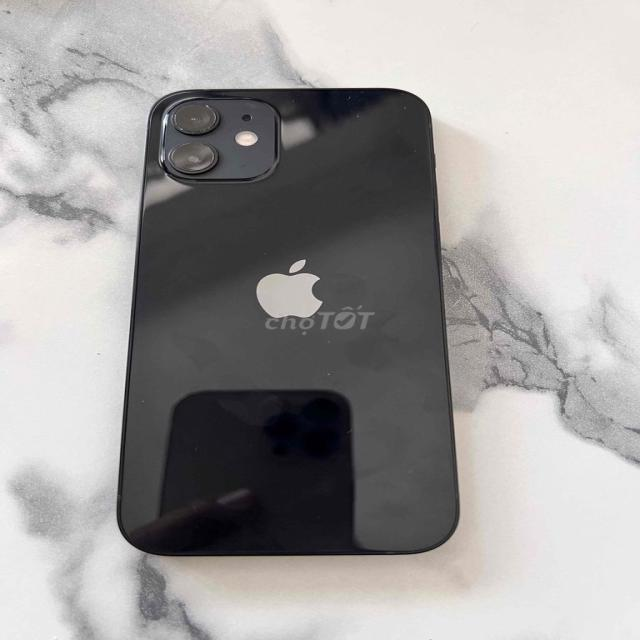gen_12_13: (117, 88, 458, 555)
